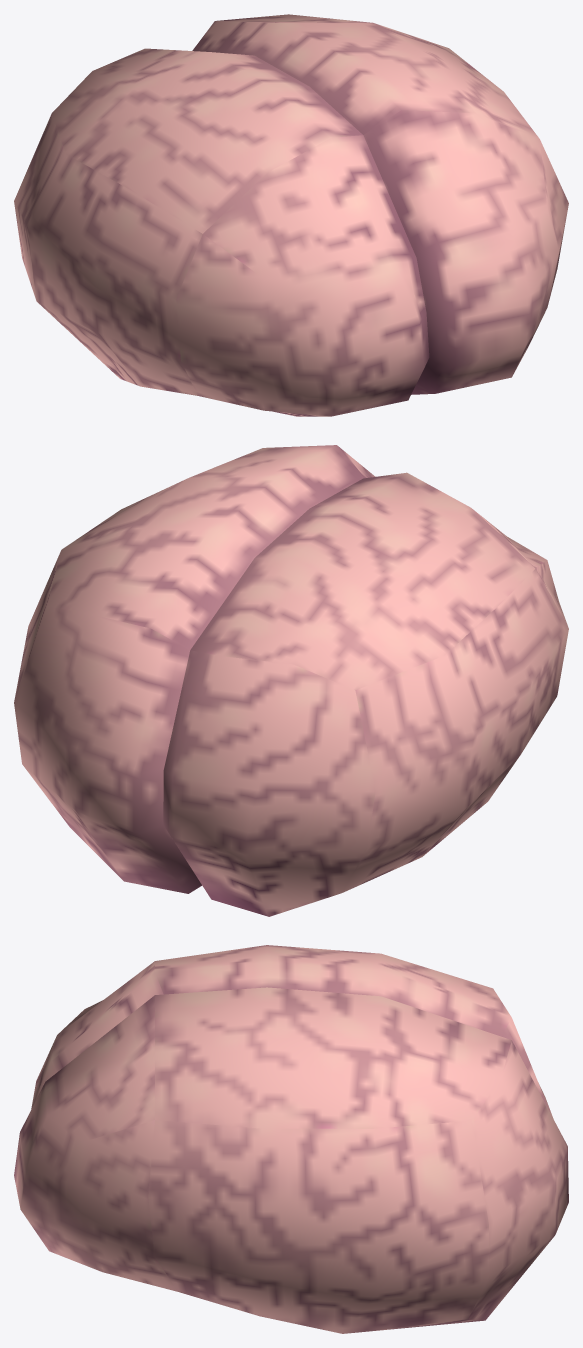
The model's file is Brain.obj.
3 renders of one model, top to bottom at view 1: azimuth 30°, elevation 25°; view 2: azimuth 150°, elevation 25°; view 3: azimuth 270°, elevation 25°, orthographic. The views are drawn at different scales.
Visible parts, largest first — view 1: Brain; view 2: Brain; view 3: Brain.
Boxes of the visible parts, <box> form: Brain: <box>14,14,568,416</box>; Brain: <box>14,445,568,916</box>; Brain: <box>14,945,568,1333</box>.
Size of the model in its own units: 0.5953 by 0.431 by 0.6704.
Materials: 1 (1 with a texture image).
